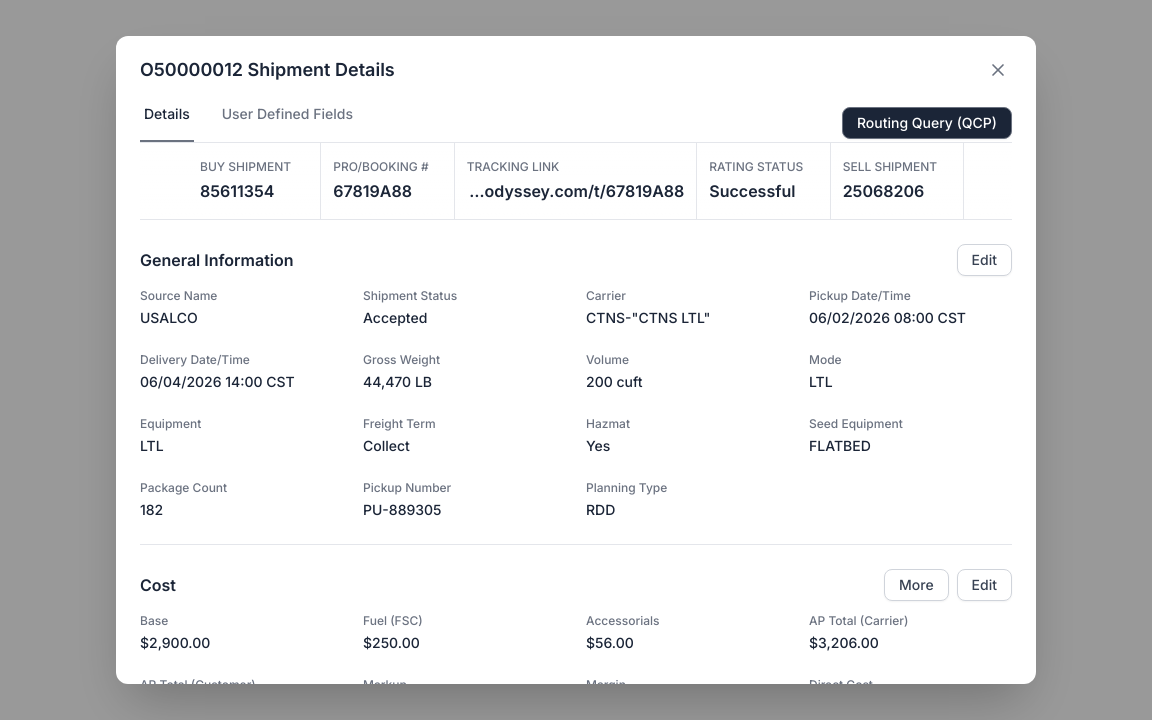
Test: section edit affordance › only one section can be in edit mode — opening a second closes the first
Click the button with aria-label "Edit General Information": coordinates (984, 260) [957,244,1012,276]
(page scrolled)
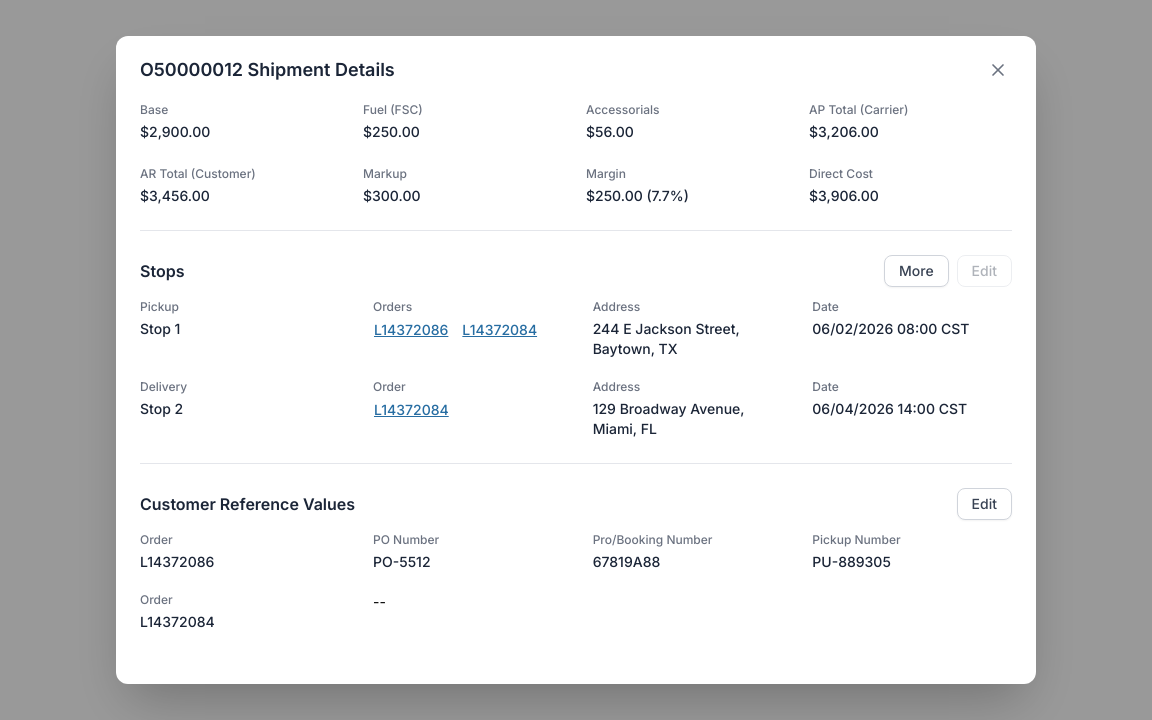
Click the button with aria-label "Edit Customer Reference Values": coordinates (984, 504) [957,488,1012,520]
(page scrolled)
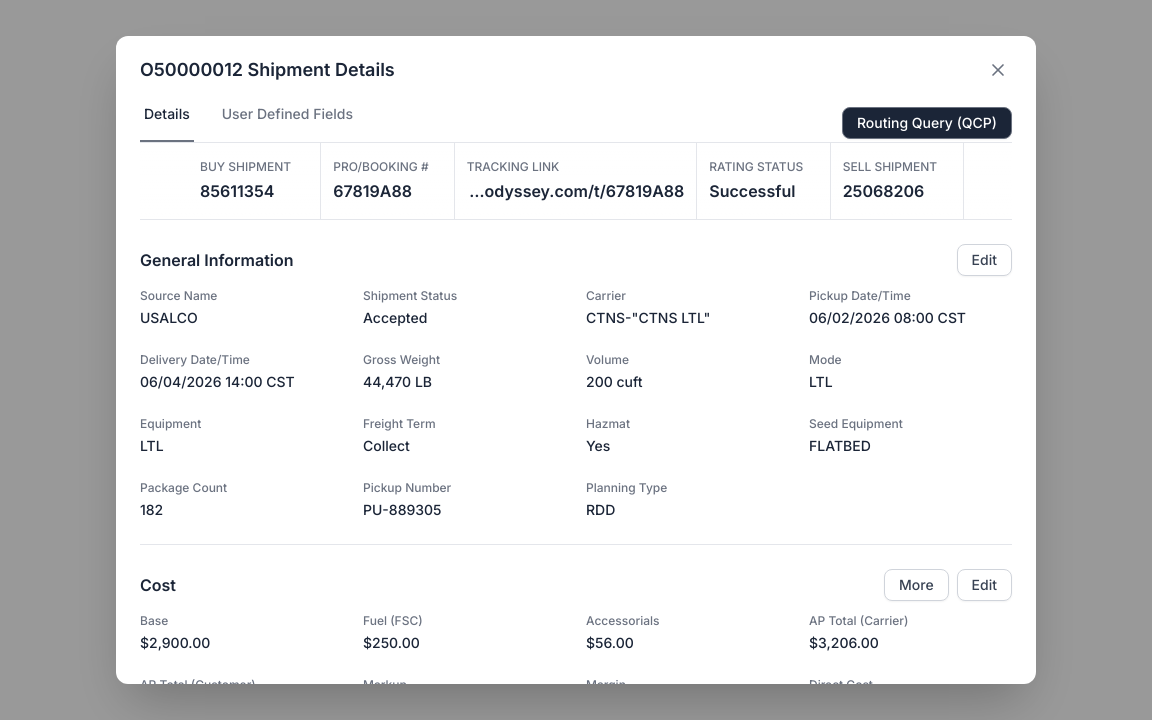
Result: the button with aria-label "Edit General Information" is shown at [957,244,1012,276]
